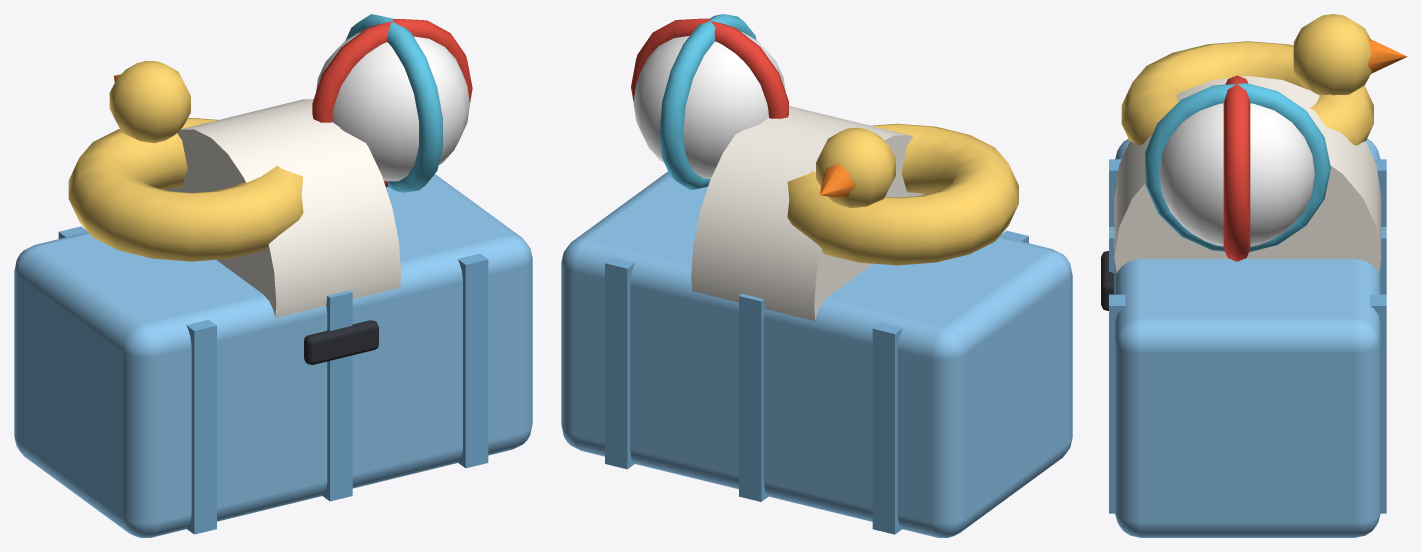
File: deckbox.glb
The picture shows the model from 3 angles, left to right: view 1: azimuth 30°, elevation 25°; view 2: azimuth 150°, elevation 25°; view 3: azimuth 270°, elevation 25°; orthographic projection. The views are drawn at different scales.
Bounding box in the file's own units: 0.9 × 0.8652 × 0.575.
